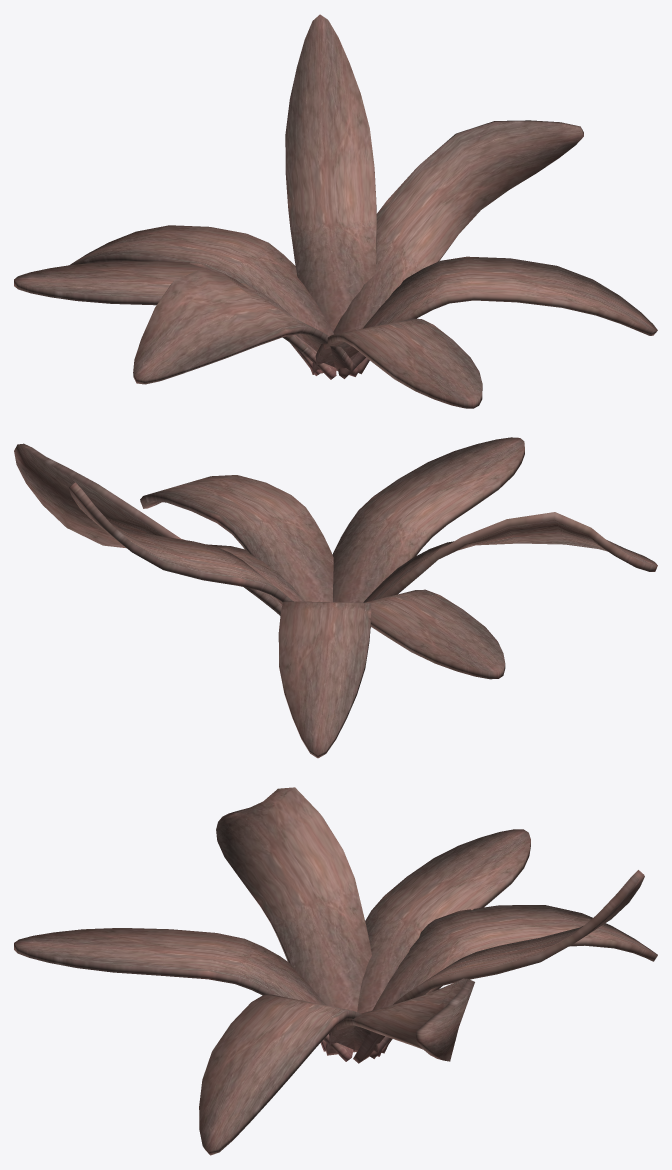
The model's file is calyx3_sb2_b.dae.
3 views of the same model, one above another, from view 1: azimuth 30°, elevation 25°; view 2: azimuth 150°, elevation 25°; view 3: azimuth 270°, elevation 25° (orthographic). The views are drawn at different scales.
Parts seen in each view (by area): view 1: calyx2, calyx5, calyx4, calyx3_001, calyx3, calyx1, calyx1_001; view 2: calyx1, calyx3, calyx3_001, calyx1_001, calyx5, calyx4, calyx2; view 3: calyx4, calyx1, calyx3_001, calyx1_001, calyx3, calyx5, calyx2.
Boxes of the visible parts, x1,y1,x2,y2 form: calyx2: [285, 14, 376, 331]; calyx5: [333, 120, 583, 374]; calyx4: [133, 270, 358, 384]; calyx3_001: [338, 256, 657, 378]; calyx3: [69, 225, 333, 375]; calyx1: [310, 318, 482, 408]; calyx1_001: [14, 261, 336, 379]; calyx1: [332, 437, 524, 602]; calyx3: [278, 601, 371, 758]; calyx3_001: [140, 475, 333, 602]; calyx1_001: [365, 589, 505, 679]; calyx5: [14, 443, 304, 615]; calyx4: [363, 512, 657, 602]; calyx2: [68, 482, 292, 604]; calyx4: [216, 787, 371, 1051]; calyx1: [14, 928, 353, 1061]; calyx3_001: [199, 994, 381, 1155]; calyx1_001: [357, 829, 530, 1053]; calyx3: [369, 905, 657, 1058]; calyx5: [325, 978, 474, 1061]; calyx2: [353, 870, 644, 1063].
Bounding box in the file's own units: 0.0858 × 0.0838 × 0.0345.
Materials: 7 (7 with a texture image).
